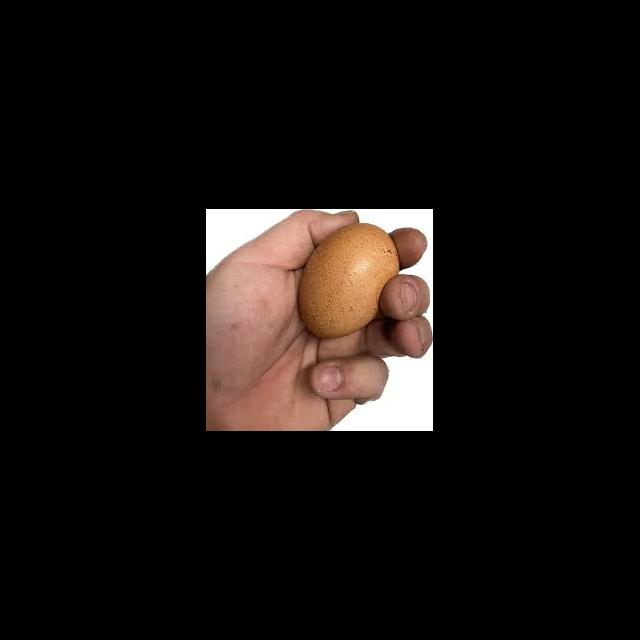egg: (296, 223, 401, 338)
